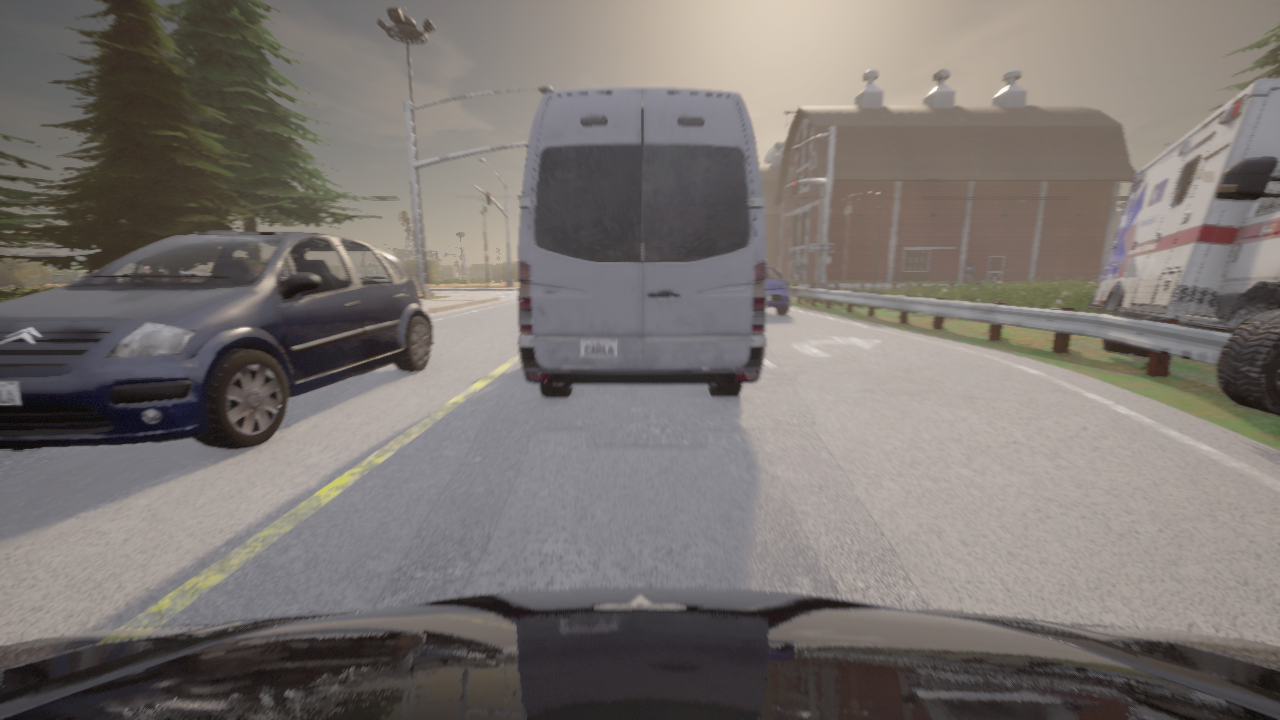cyclist: (0, 588, 1279, 719), (0, 231, 433, 449), (517, 88, 766, 396), (1087, 77, 1279, 415), (765, 266, 790, 315)
pedestrian: (966, 263, 973, 283)
